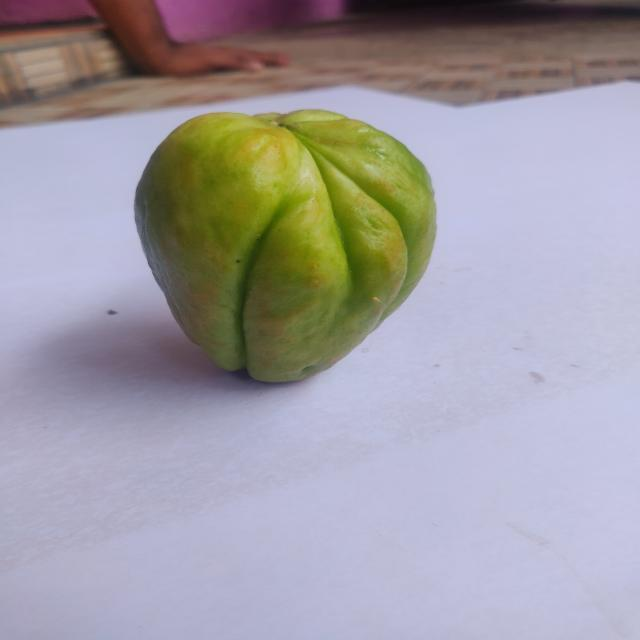Chayote: (132, 103, 444, 423)
